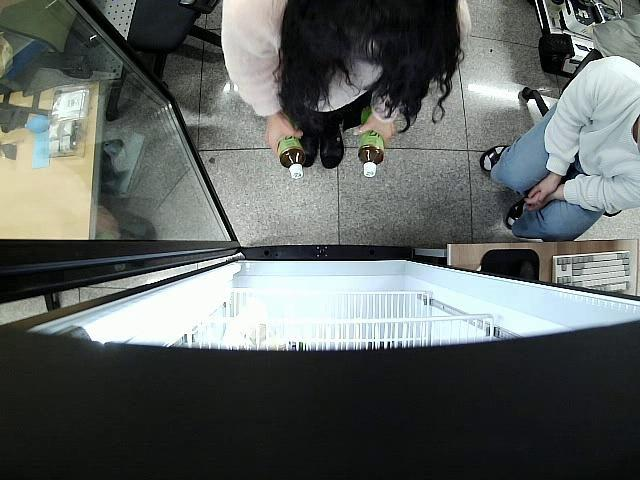19_17cha: (356, 106, 386, 178), (276, 132, 308, 178)
